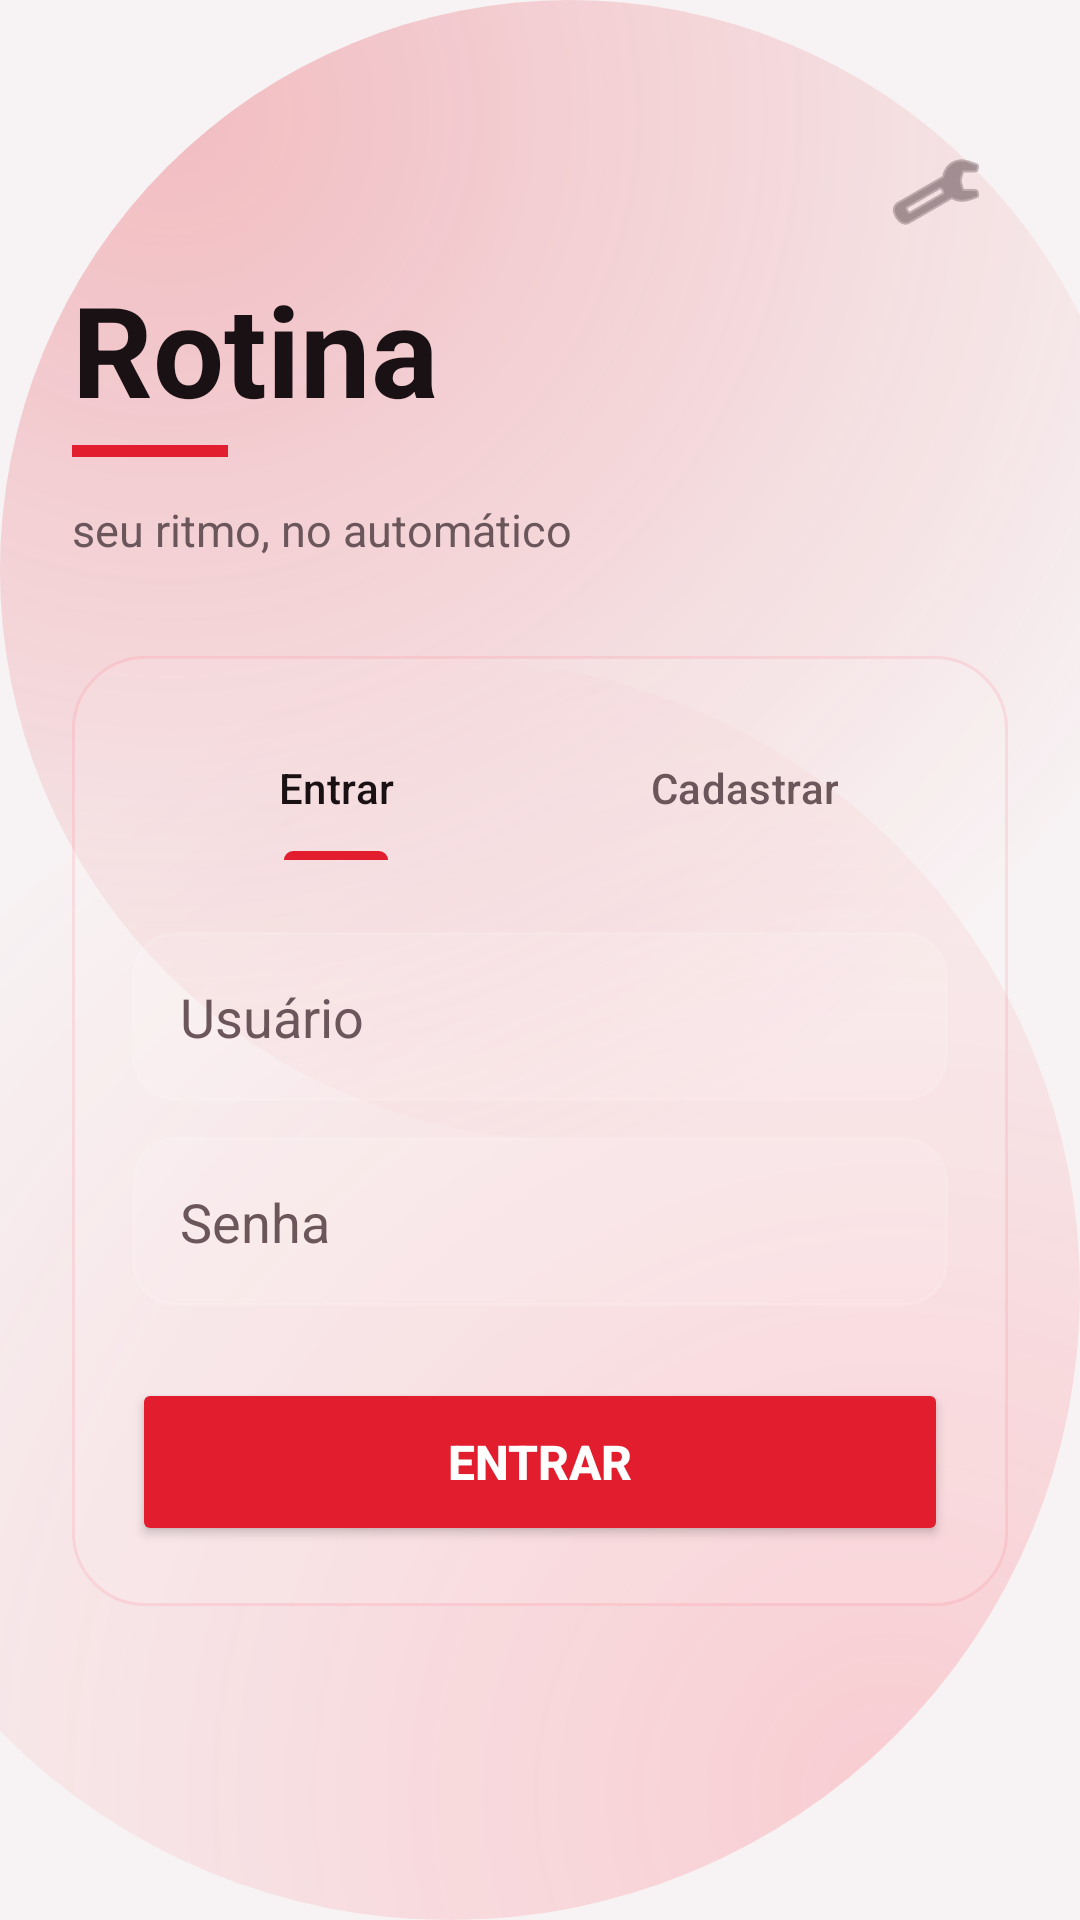

Icons on this 1080x1920 Android screen, each with the point to tap as point (x, y):
Configurar servidor: point (936, 192)
